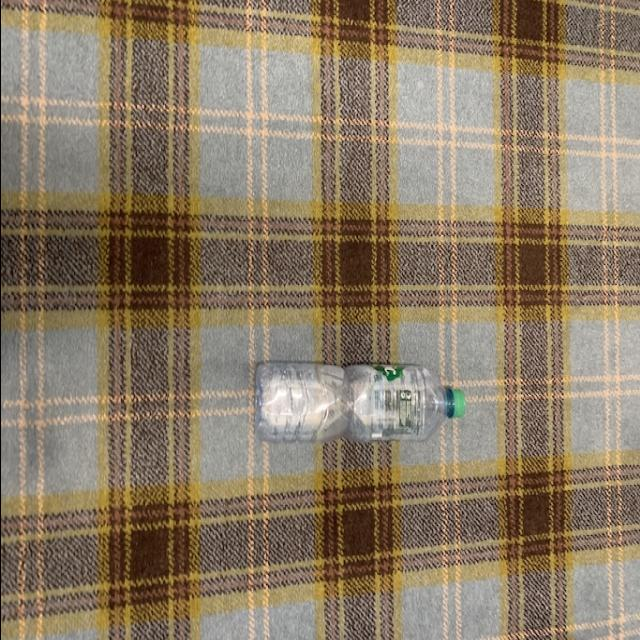PET: (252, 356, 464, 446)
